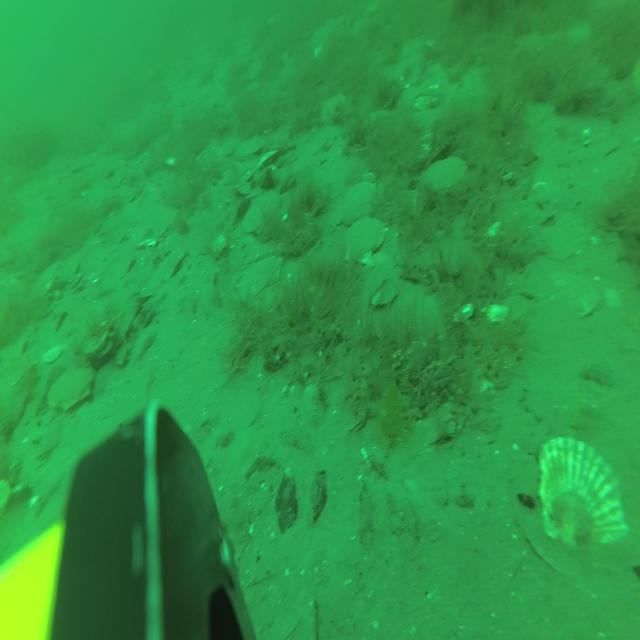scallop: (534, 427, 628, 555), (540, 263, 600, 320), (232, 251, 290, 309), (46, 363, 98, 417), (341, 212, 387, 270), (418, 150, 471, 196), (241, 187, 285, 241), (338, 179, 379, 225), (234, 133, 268, 163)
